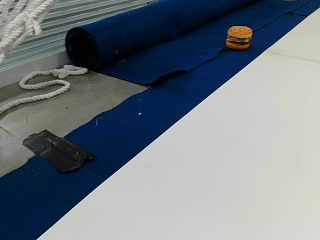burger: (225, 24, 252, 48)
